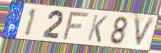1: (23, 8, 37, 38)
2: (41, 10, 65, 41)
8: (109, 15, 130, 46)
F: (61, 12, 91, 42)
K: (86, 13, 109, 44)
V: (133, 15, 157, 50)
